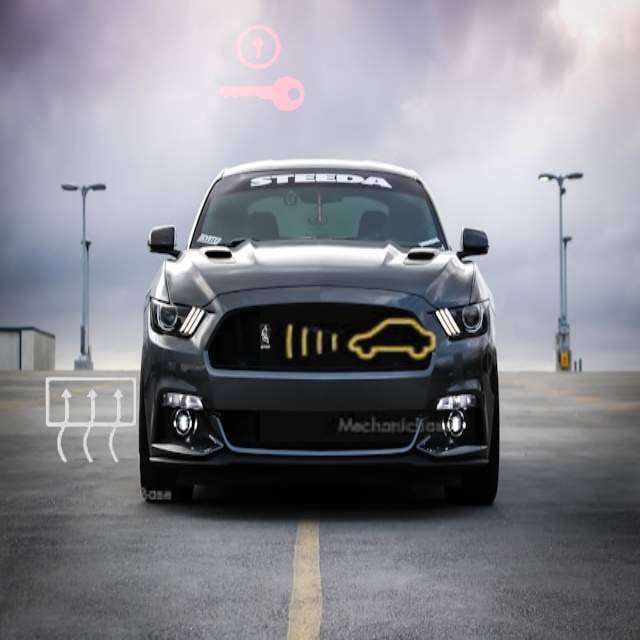symbol: (260, 242, 460, 442), (6, 336, 178, 508), (200, 7, 323, 130)
